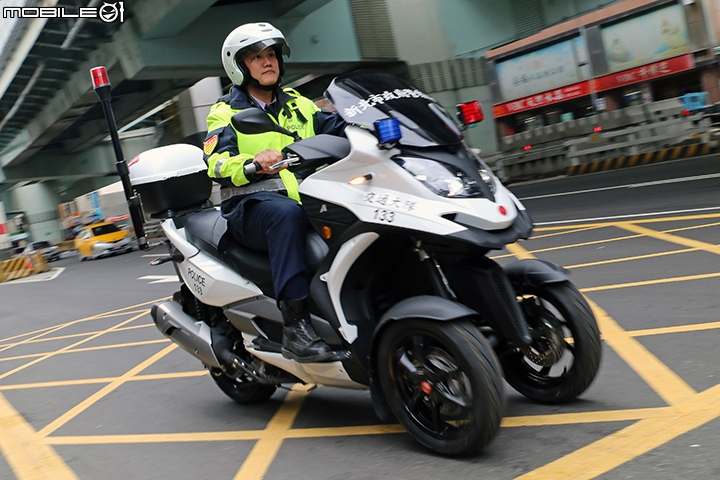helmet: (215, 16, 291, 87)
